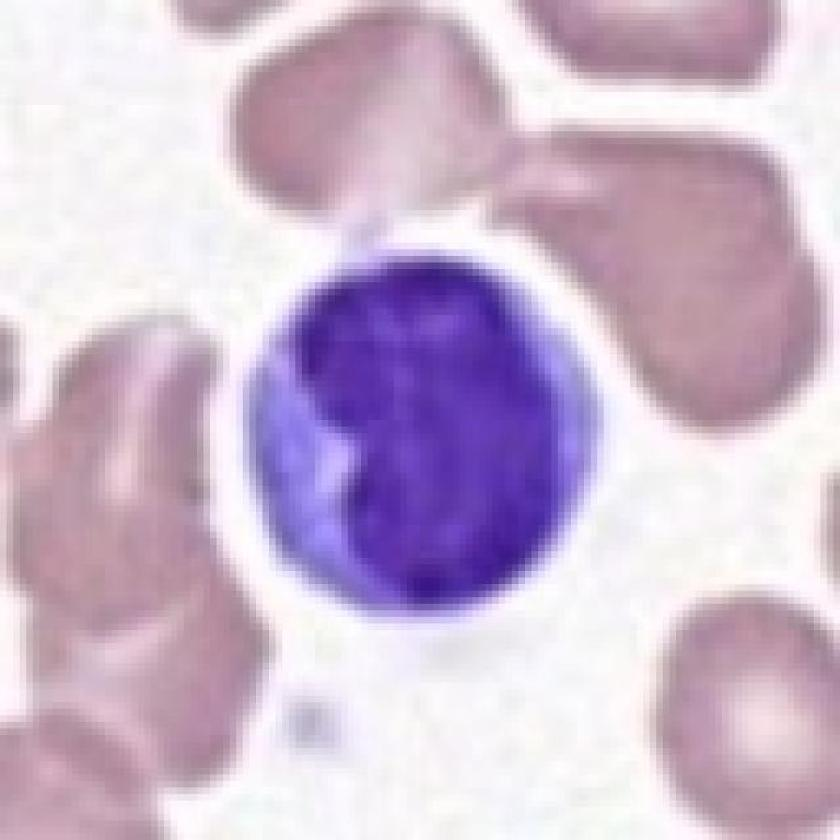lymphocyte: (241, 232, 613, 627)
